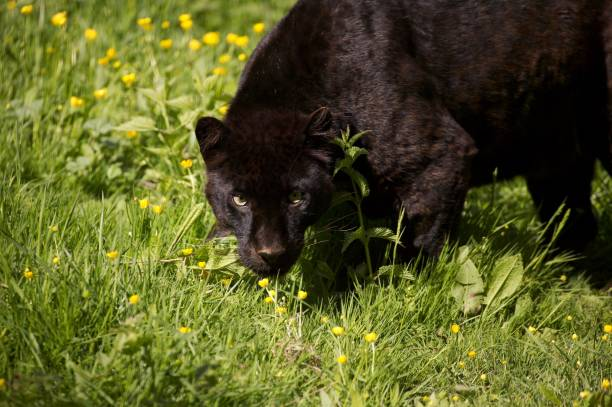panther: (185, 103, 333, 286)
